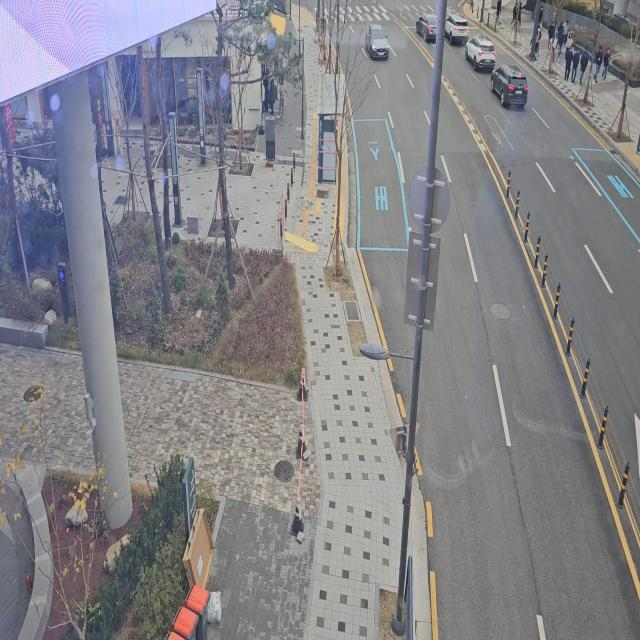Car: (490, 56, 530, 108), (465, 24, 498, 74), (364, 16, 391, 68), (440, 6, 470, 50), (414, 9, 442, 46)
